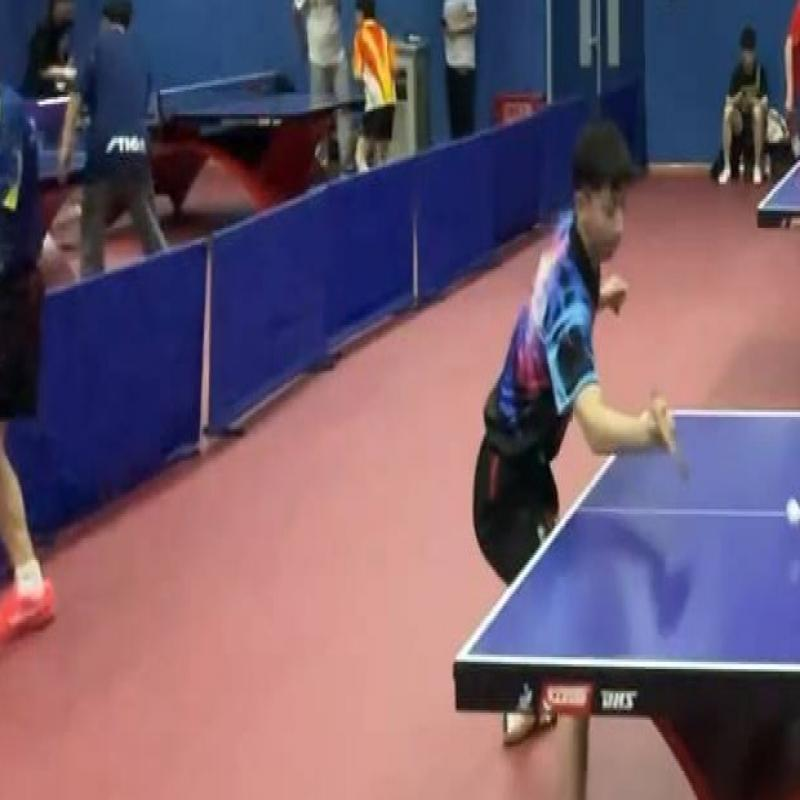bats: (647, 371, 694, 492)
